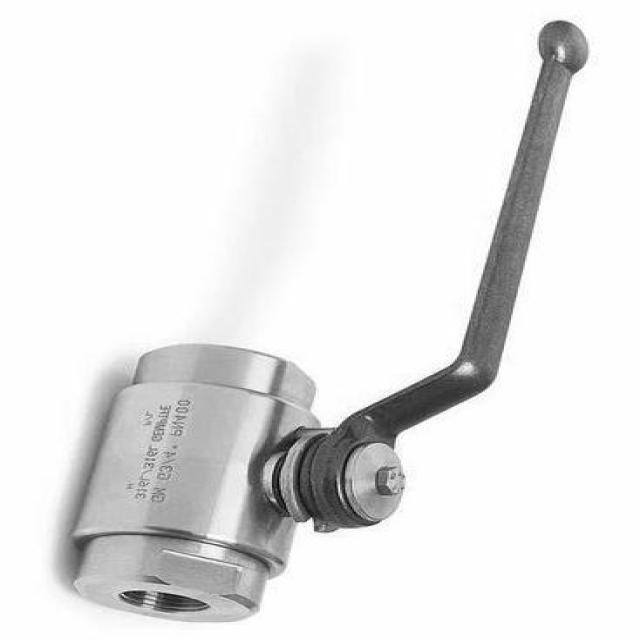opened_valve: (66, 16, 594, 628)
